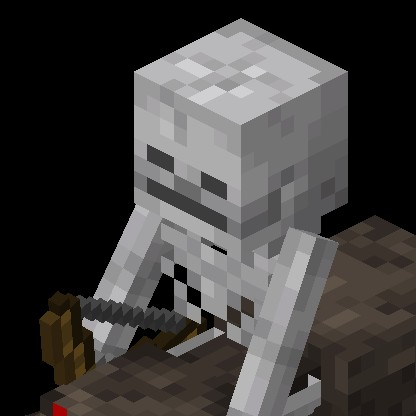skeleton: (121, 14, 361, 270)
